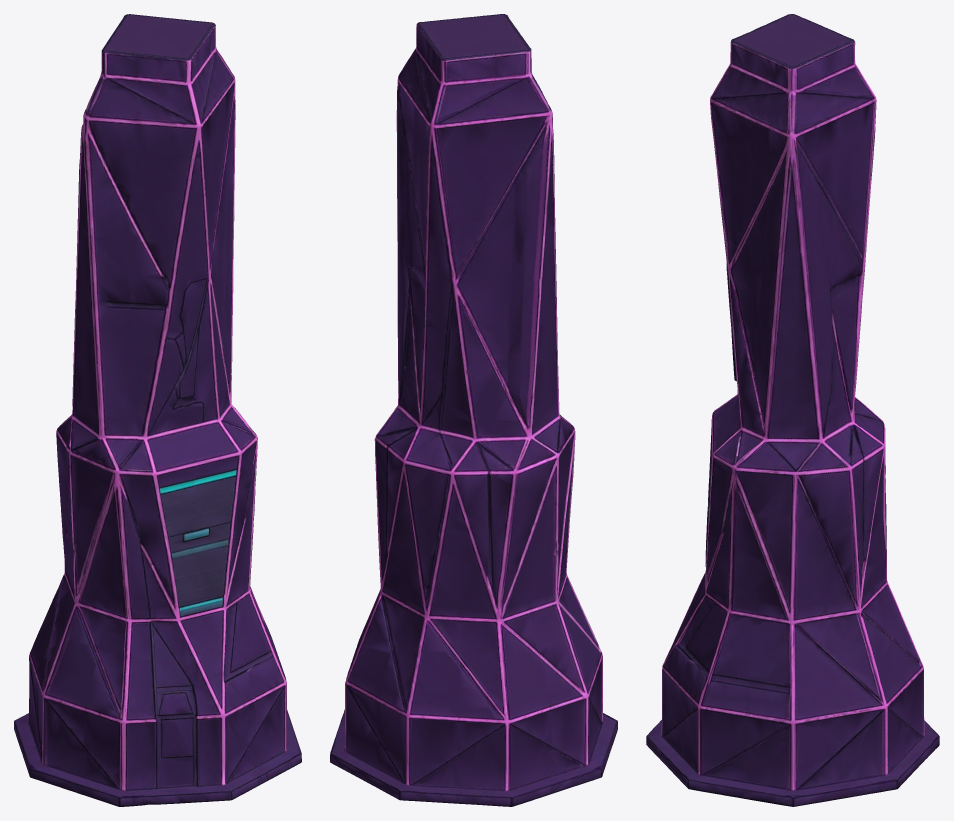
Rendered from tall-building-1.glb.
3 renders of one model, left to right at view 1: azimuth 30°, elevation 25°; view 2: azimuth 150°, elevation 25°; view 3: azimuth 270°, elevation 25°, orthographic.
Visible parts, largest first — view 1: mesh_node; view 2: mesh_node; view 3: mesh_node.
Boxes of the visible parts, x1,y1,x2,y2 form: mesh_node: (14, 14, 301, 806); mesh_node: (330, 14, 617, 806); mesh_node: (646, 14, 939, 806).
Bounding box in the file's own units: 0.7184 × 1.9 × 0.7186.
Materials: 1 (1 with a texture image).
